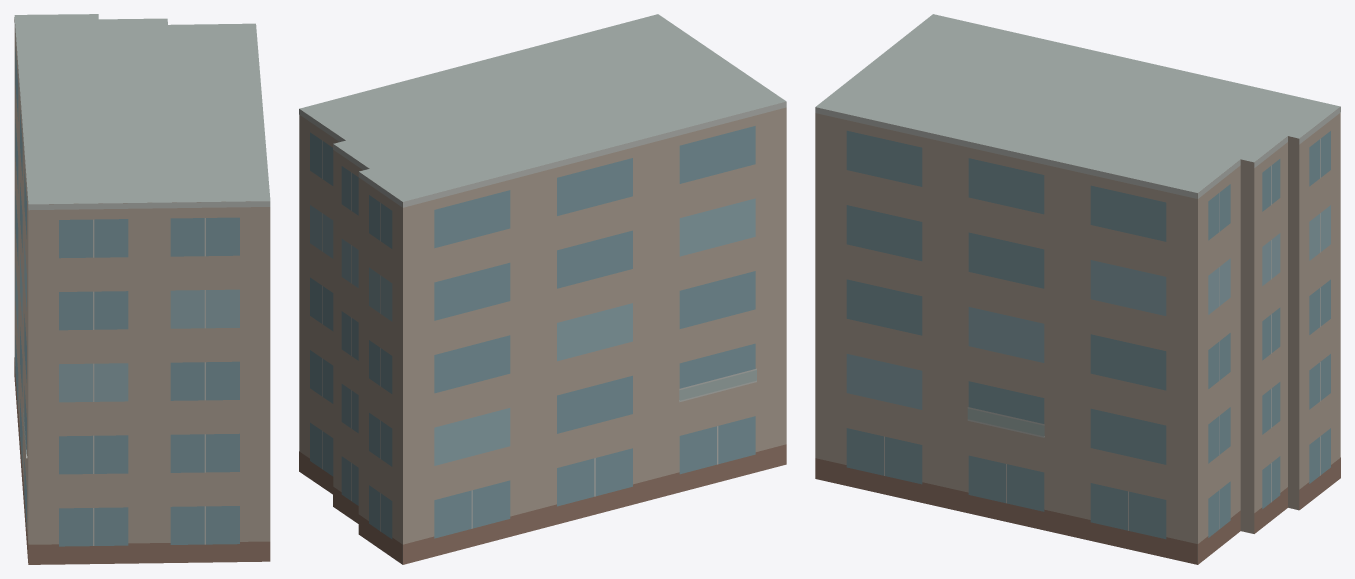
Rendered from survey-upis-32868593.glb.
The picture shows the model from 3 angles, left to right: view 1: azimuth 30°, elevation 25°; view 2: azimuth 150°, elevation 25°; view 3: azimuth 270°, elevation 25°; orthographic projection. The views are drawn at different scales.
Parts seen in each view (by area): view 1: survey-upis-32868593.tmp; view 2: survey-upis-32868593.tmp; view 3: survey-upis-32868593.tmp.
Boxes of the visible parts, x1=… form: survey-upis-32868593.tmp: x1=14, y1=14, x2=270, y2=564; survey-upis-32868593.tmp: x1=299, y1=14, x2=786, y2=564; survey-upis-32868593.tmp: x1=815, y1=14, x2=1340, y2=564.
Bounding box in the file's own units: 15.77 × 15.25 × 19.55.
